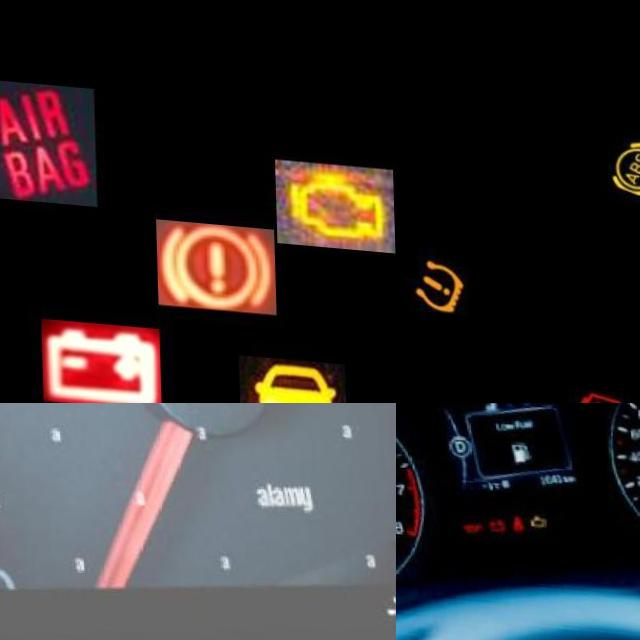Seat Belt: (506, 505, 522, 524)
